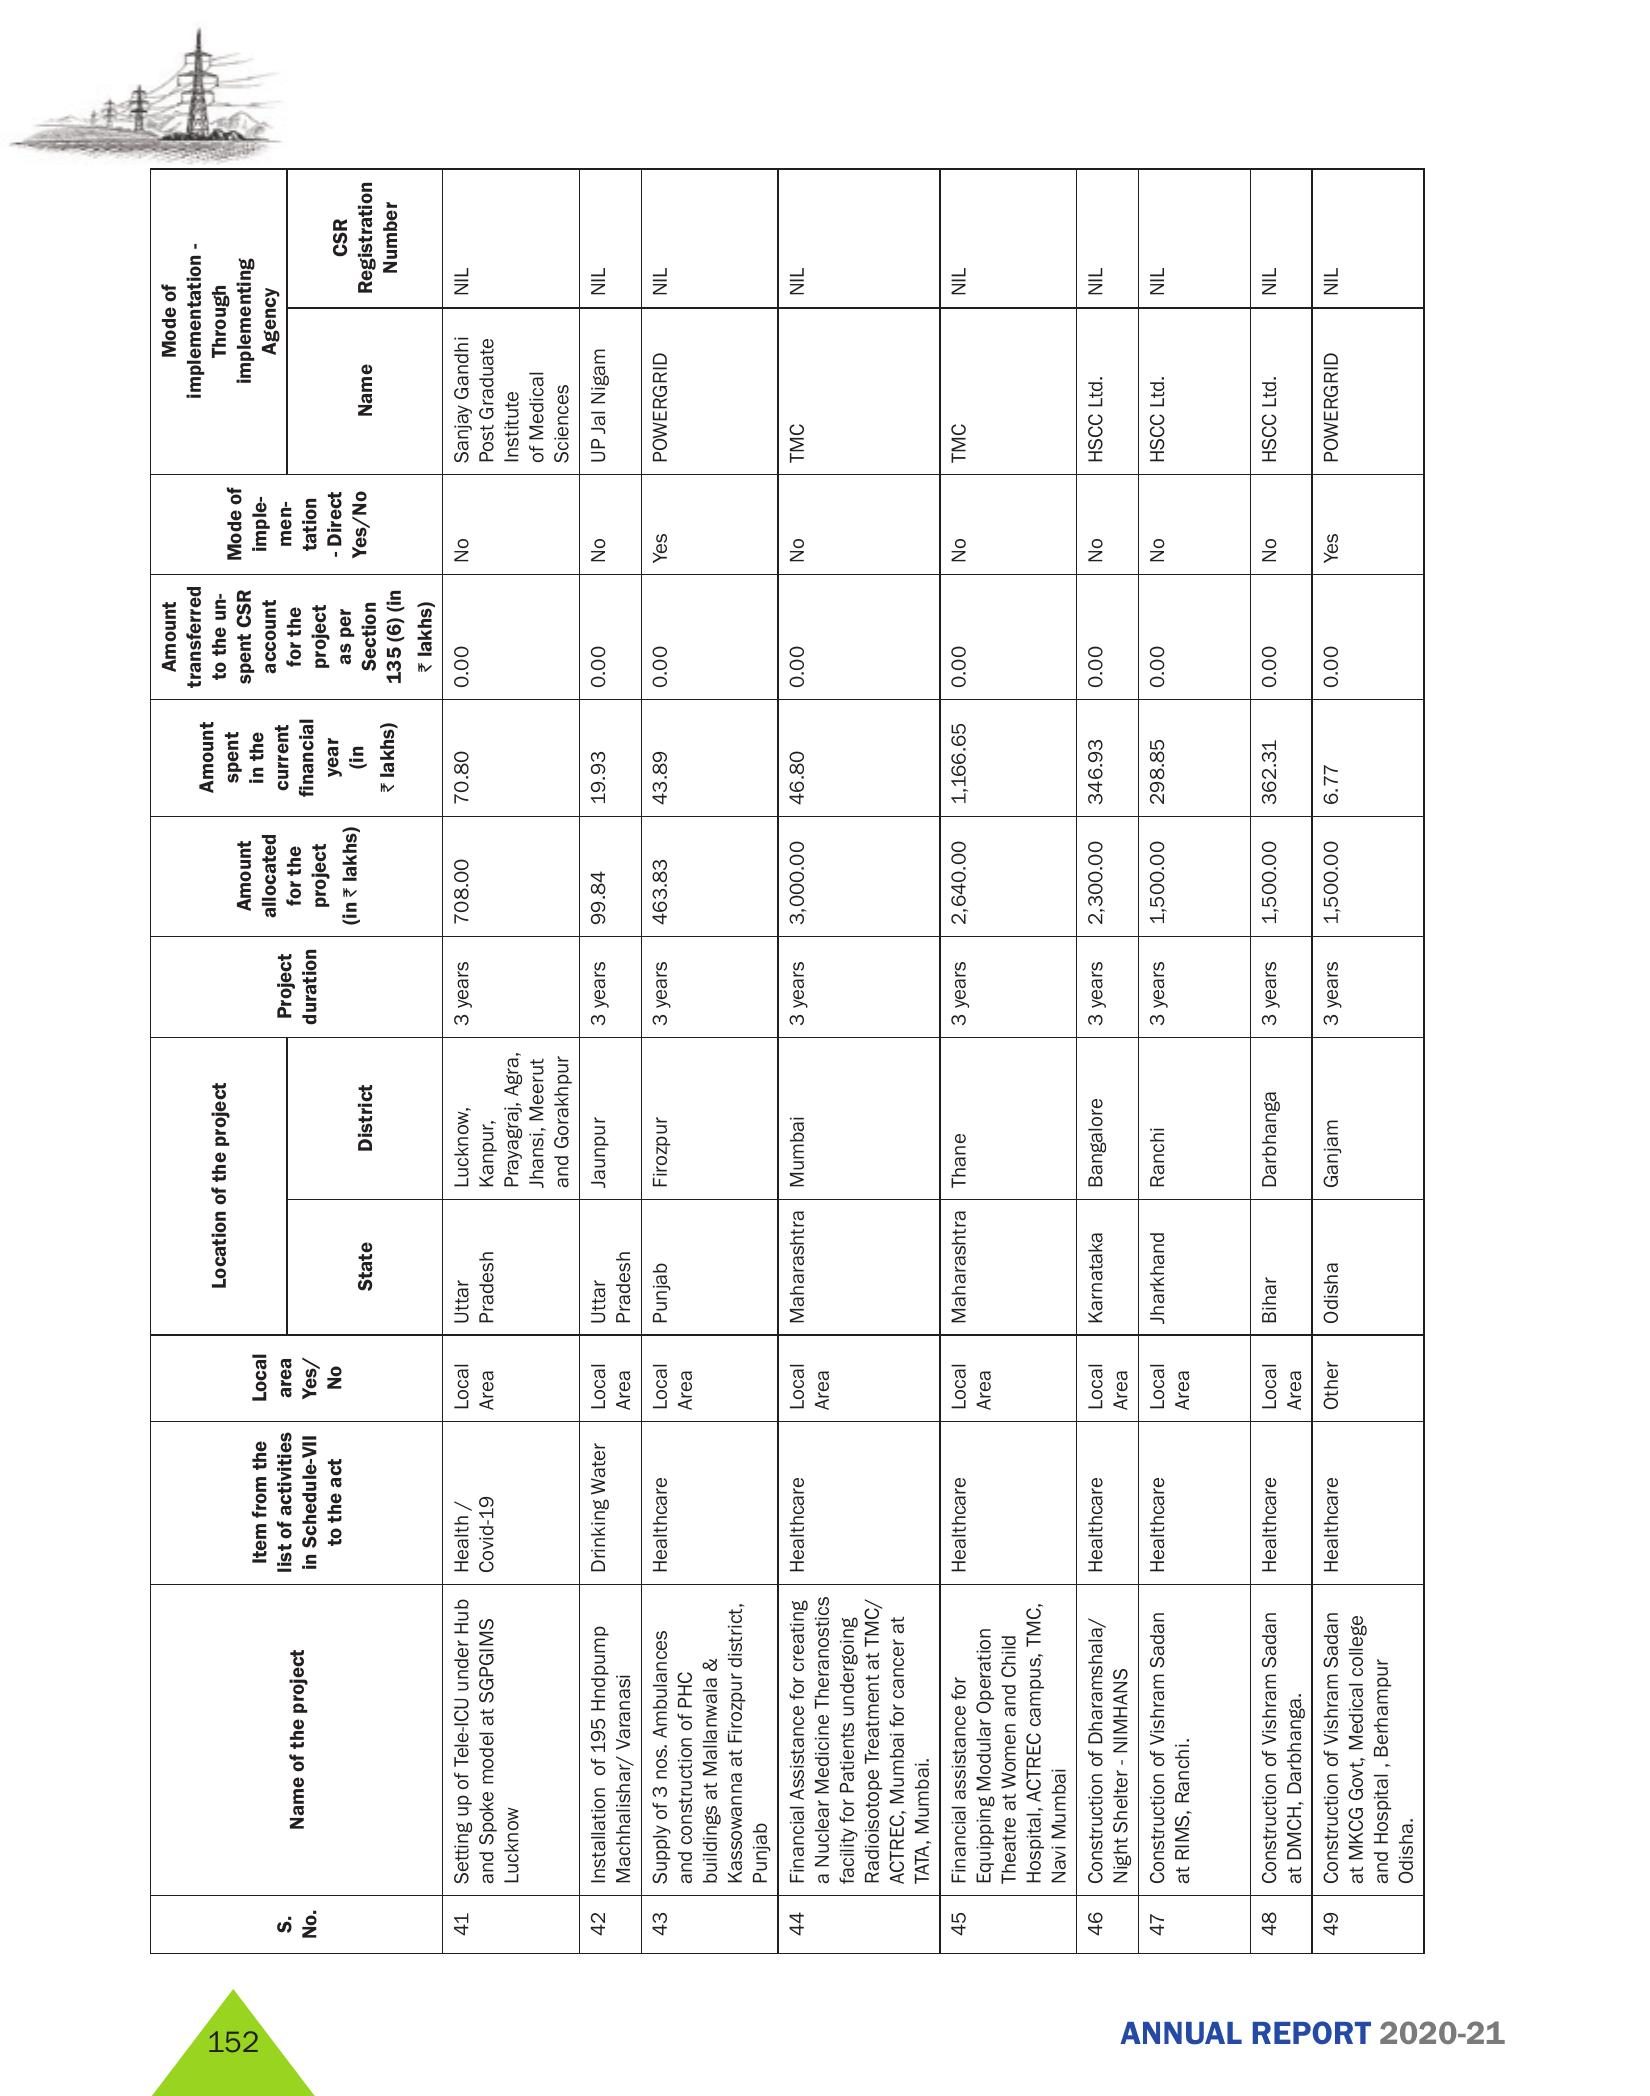Footer: (0, 1979, 1650, 2096)
Header: (0, 0, 1650, 168)
Table: (105, 168, 1434, 1982)
